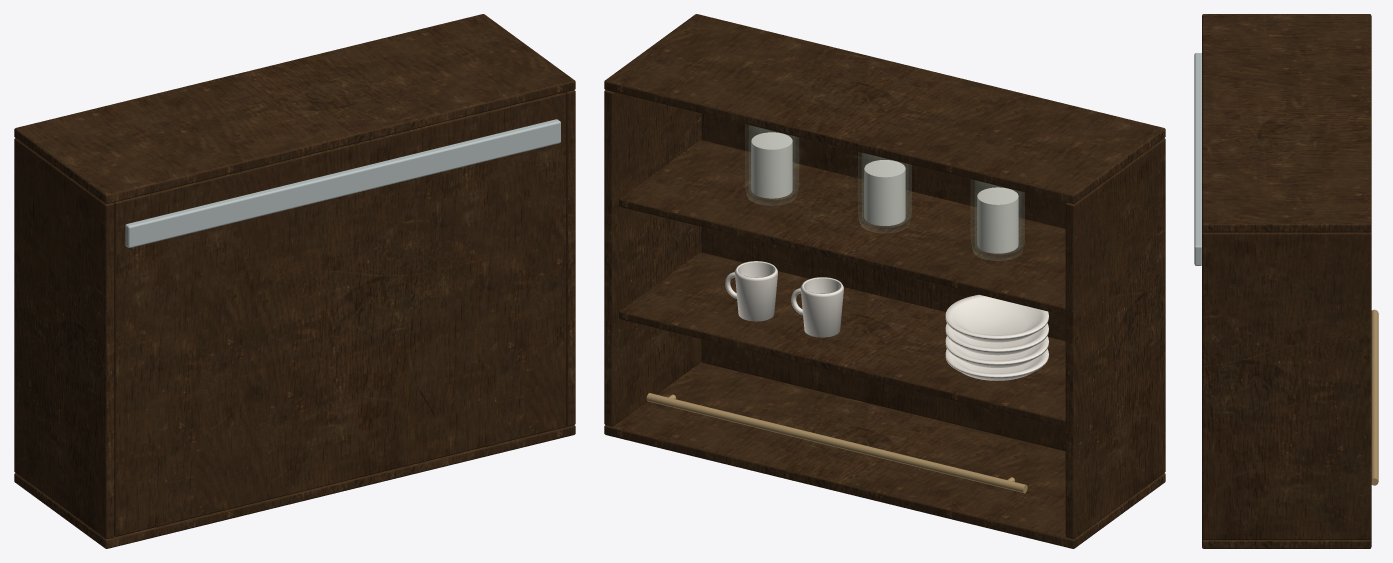
File: cabinet-wall-open.glb
The picture shows the model from 3 angles, left to right: view 1: azimuth 30°, elevation 25°; view 2: azimuth 150°, elevation 25°; view 3: azimuth 270°, elevation 25°; orthographic projection. The views are drawn at different scales.
Visible parts, largest first — view 1: oak_surfaces, steel_surfaces; view 2: oak_surfaces, ceramic_surfaces, glass_surfaces, cream_surfaces, bronze_surfaces; view 3: oak_surfaces, steel_surfaces, bronze_surfaces.
Boxes of the visible parts, x1=… form: oak_surfaces: x1=14, y1=14, x2=575, y2=548; steel_surfaces: x1=125, y1=119, x2=560, y2=247; oak_surfaces: x1=604, y1=14, x2=1165, y2=548; ceramic_surfaces: x1=725, y1=261, x2=1048, y2=380; glass_surfaces: x1=745, y1=125, x2=1024, y2=260; cream_surfaces: x1=751, y1=132, x2=1018, y2=253; bronze_surfaces: x1=646, y1=393, x2=1027, y2=493; oak_surfaces: x1=1202, y1=14, x2=1371, y2=548; steel_surfaces: x1=1194, y1=53, x2=1201, y2=265; bronze_surfaces: x1=1371, y1=309, x2=1378, y2=485.
Size of the model in its own units: 1 by 0.7201 by 0.369.
6 materials, 1 textured.
